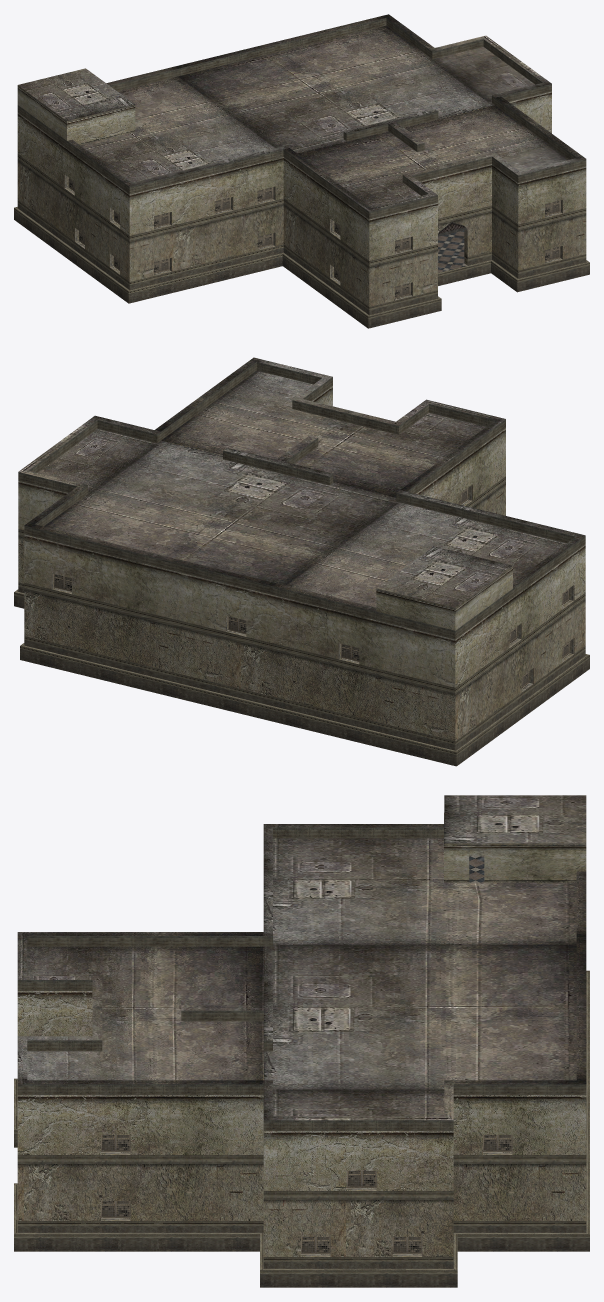
The model's file is SP_Bld2.glb.
3 renders of one model, top to bottom at view 1: azimuth 30°, elevation 25°; view 2: azimuth 150°, elevation 25°; view 3: azimuth 270°, elevation 25°, orthographic. The views are drawn at different scales.
Visible parts, largest first — view 1: _SP_Bld2; view 2: _SP_Bld2; view 3: _SP_Bld2.
Boxes of the visible parts, x1=… form: _SP_Bld2: x1=14, y1=14, x2=589, y2=328; _SP_Bld2: x1=14, y1=357, x2=589, y2=766; _SP_Bld2: x1=14, y1=795, x2=589, y2=1287.
Size of the model in its own units: 52.53 by 15.88 by 42.67.
6 materials, 6 textured.
